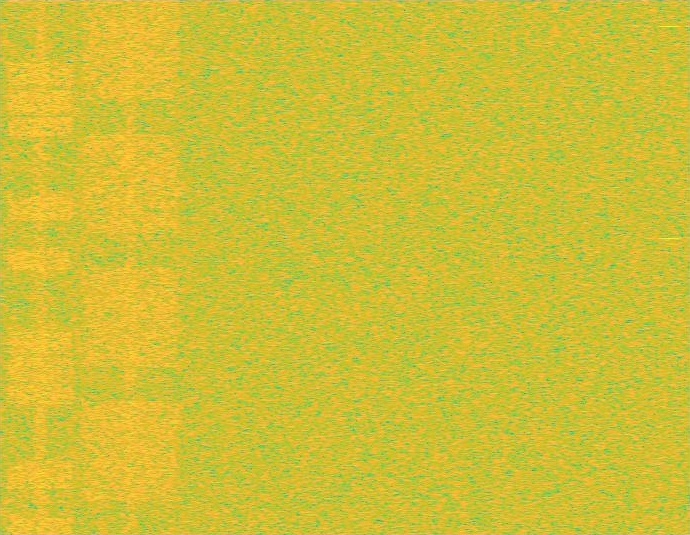5G: (79, 0, 182, 534)
DSSS: (33, 0, 48, 534), (124, 0, 138, 534)
LTE: (6, 0, 75, 534)
Radar: (662, 0, 676, 534)
